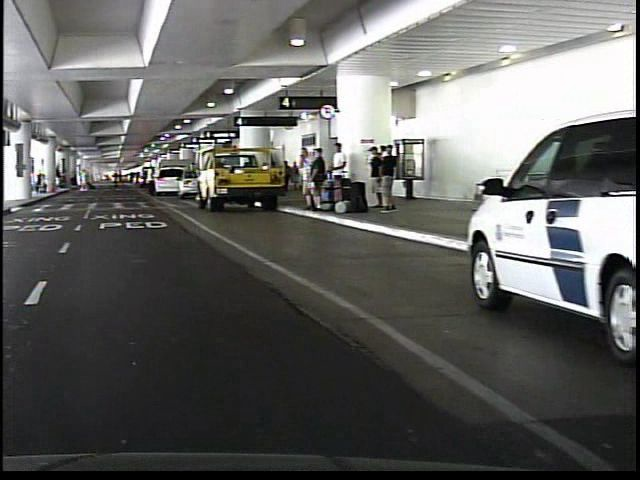person: (376, 144, 394, 217), (293, 145, 311, 207), (73, 162, 88, 196), (141, 165, 151, 196)
